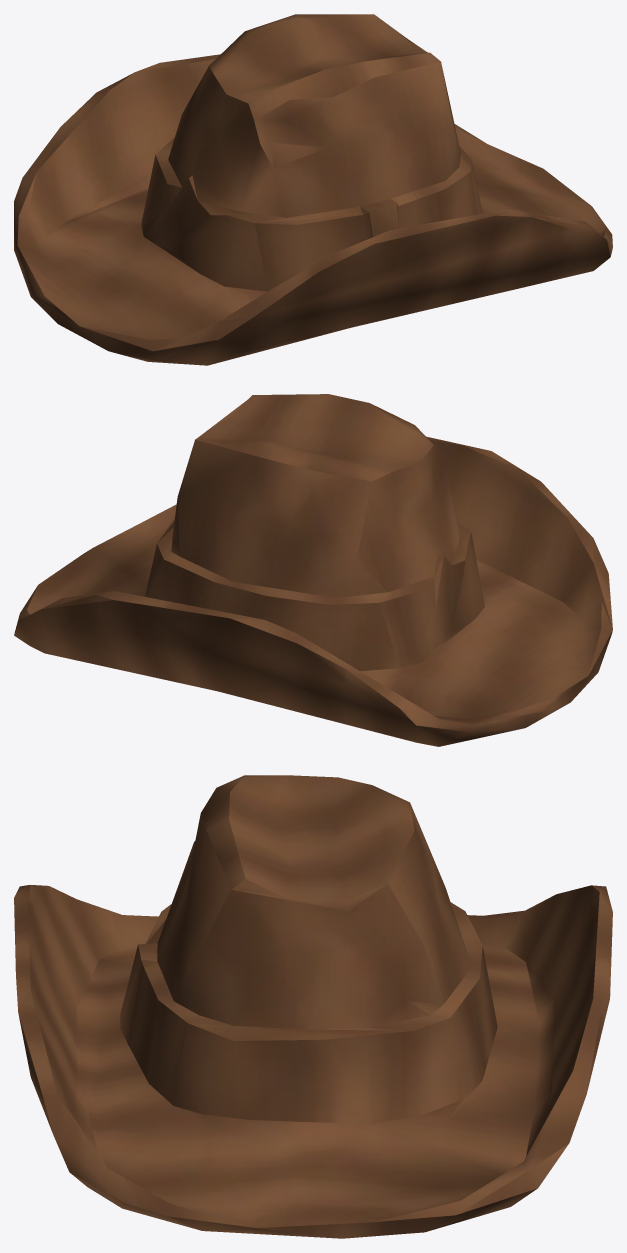
Rendered from sheriff_hat.glb.
3 renders of one model, top to bottom at view 1: azimuth 30°, elevation 25°; view 2: azimuth 150°, elevation 25°; view 3: azimuth 270°, elevation 25°, orthographic. The views are drawn at different scales.
Parts seen in each view (by area): view 1: x; view 2: x; view 3: x.
Boxes of the visible parts, x1,y1,x2,y2 form: x: [14, 14, 612, 365]; x: [14, 394, 612, 746]; x: [14, 775, 612, 1238].
Bounding box in the file's own units: 0.4349 × 0.1802 × 0.3506.
Materials: 1 (1 with a texture image).
